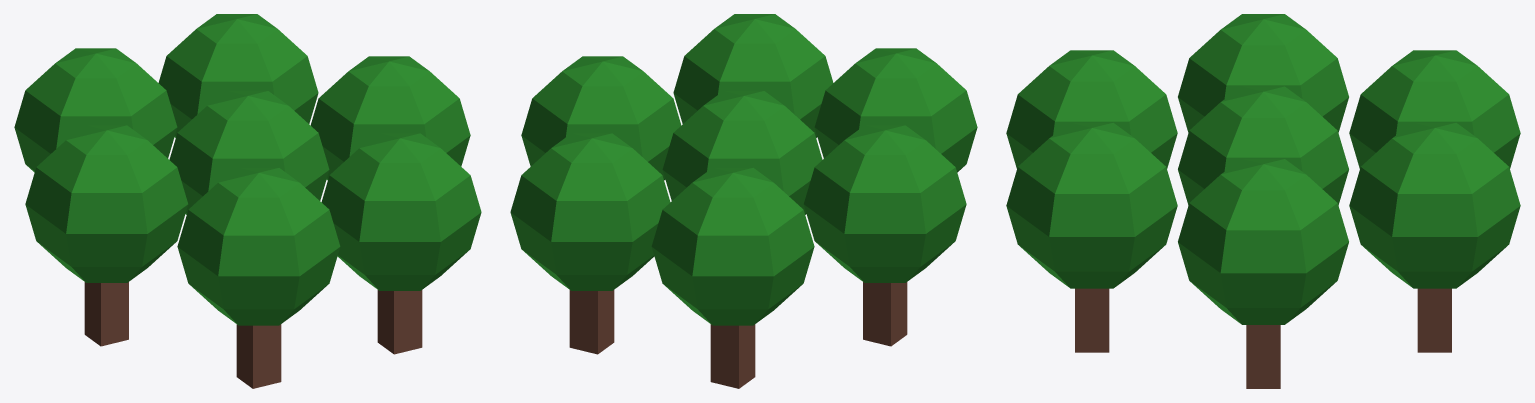
File: treesTempForest.dae
The picture shows the model from 3 angles, left to right: view 1: azimuth 30°, elevation 25°; view 2: azimuth 150°, elevation 25°; view 3: azimuth 270°, elevation 25°; orthographic projection. The views are drawn at different scales.
Parts seen in each view (by area): view 1: TempForest; view 2: TempForest; view 3: TempForest.
Part boxes in pixels (box(x1,y1,x2,y2)): TempForest: box(14, 14, 481, 388); TempForest: box(510, 14, 977, 388); TempForest: box(1006, 14, 1520, 388).
Size of the model in its own units: 2.87 by 3 by 1.4.
